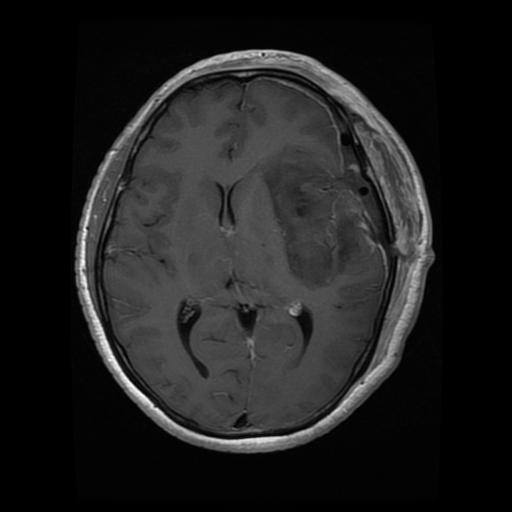Gliomia_tumour: (258, 145, 383, 289)
